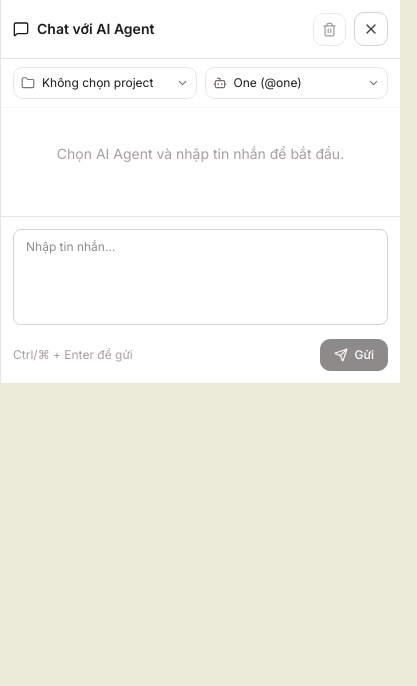
Scenario: project is optional and conversations stay separate when switching project
Expected: the dropdown named "Project" is enabled, [13, 67, 196, 99]
Expected: the dropdown named "Project" shows "Không chọn project", [13, 67, 196, 99]
Type "Không có project" into the text box named "Tin nhắn cho AI Agent" at (200, 277), box [13, 229, 388, 325]
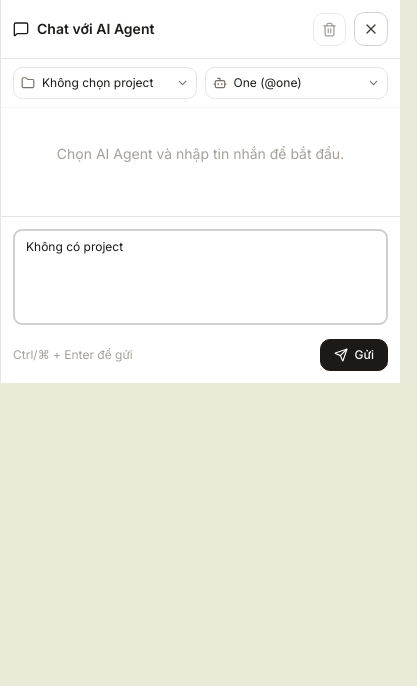
Click the button "Gửi" at (354, 355), box [320, 339, 388, 371]
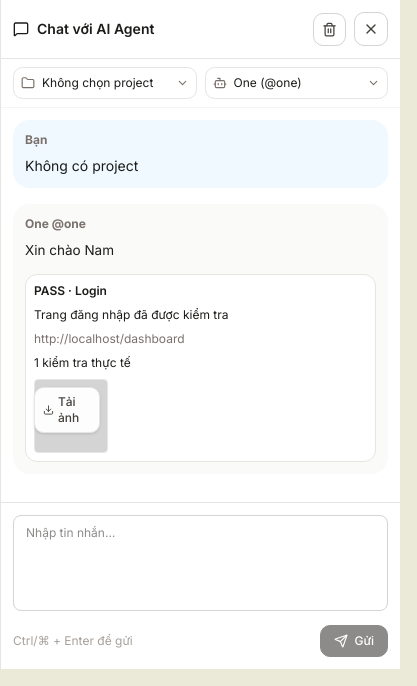
Expected: the text "Xin chào Nam" is shown, [25, 242, 114, 258]
Select "Project One" in the dropdown named "Project" at (105, 83), box [13, 67, 196, 99]
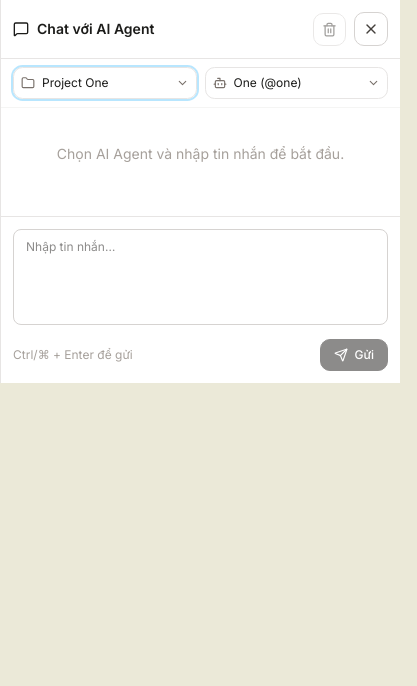
Expected: the text "Xin chào Nam" is gone
Type "Kiểm tra project" into the text box named "Tin nhắn cho AI Agent" at (200, 277), box [13, 229, 388, 325]
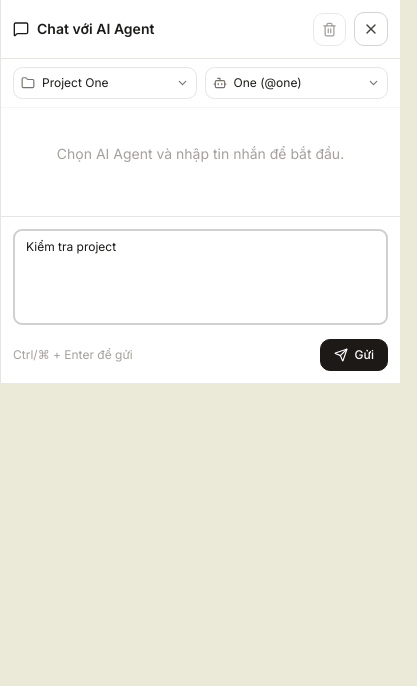
Click the button "Gửi" at (354, 355), box [320, 339, 388, 371]
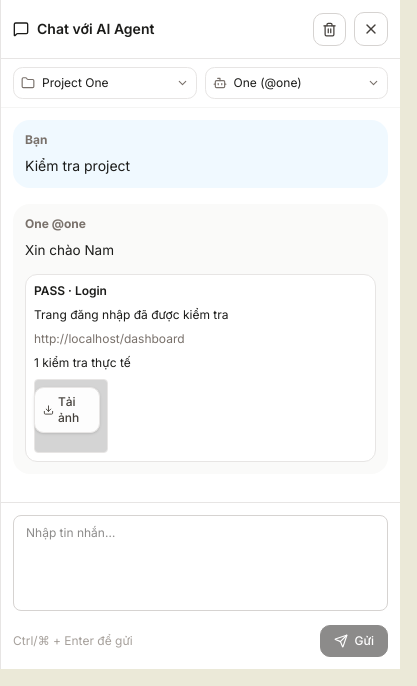
Expected: the text "Xin chào Nam" is shown, [25, 242, 114, 258]
Select "Không chọn project" in the dropdown named "Project" at (105, 83), box [13, 67, 196, 99]
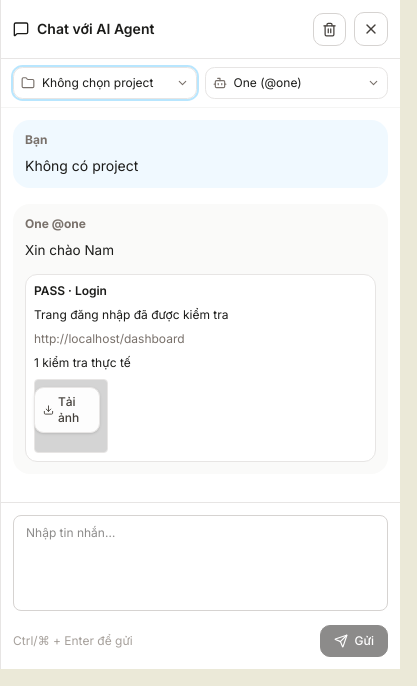
Expected: the text "Không có project" is shown, [25, 157, 138, 174]
